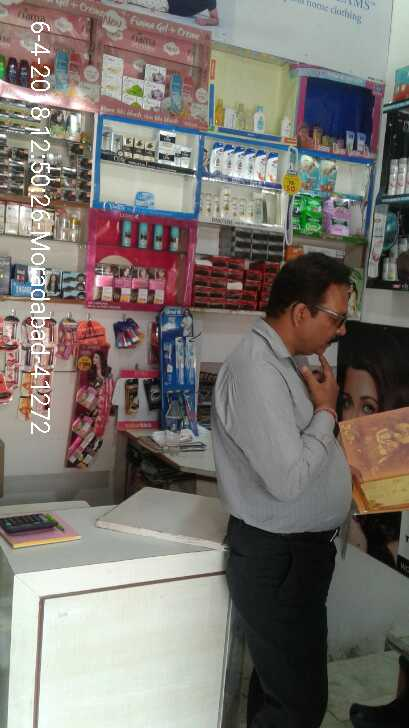venus: (135, 192, 156, 207)
